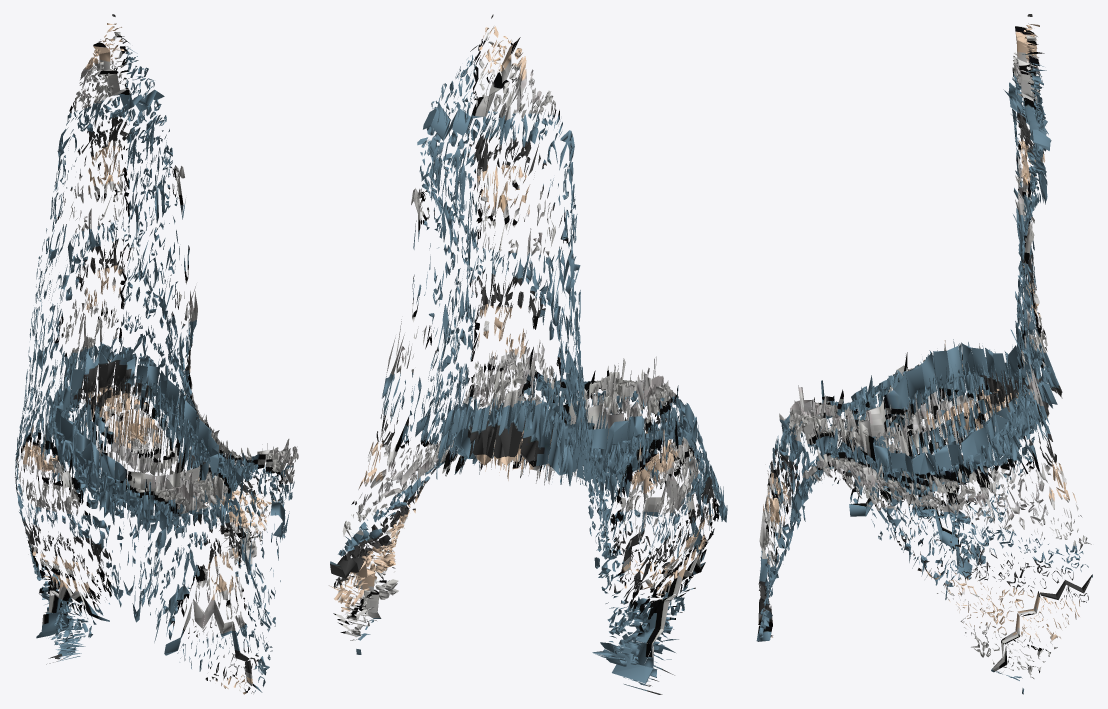
File: angry-chair-dvnc-v33.glb
3 views of the same model, side by side, from view 1: azimuth 30°, elevation 25°; view 2: azimuth 150°, elevation 25°; view 3: azimuth 270°, elevation 25° (orthographic). The views are drawn at different scales.
Parts seen in each view (by area): view 1: Mesh_5; view 2: Mesh_5; view 3: Mesh_5.
Boxes of the visible parts, x1=… form: Mesh_5: x1=15, y1=14, x2=298, y2=694; Mesh_5: x1=329, y1=14, x2=727, y2=694; Mesh_5: x1=756, y1=14, x2=1092, y2=694.
Size of the model in its own units: 0.9133 by 2.1 by 1.03.
Materials: 1 (1 with a texture image).
